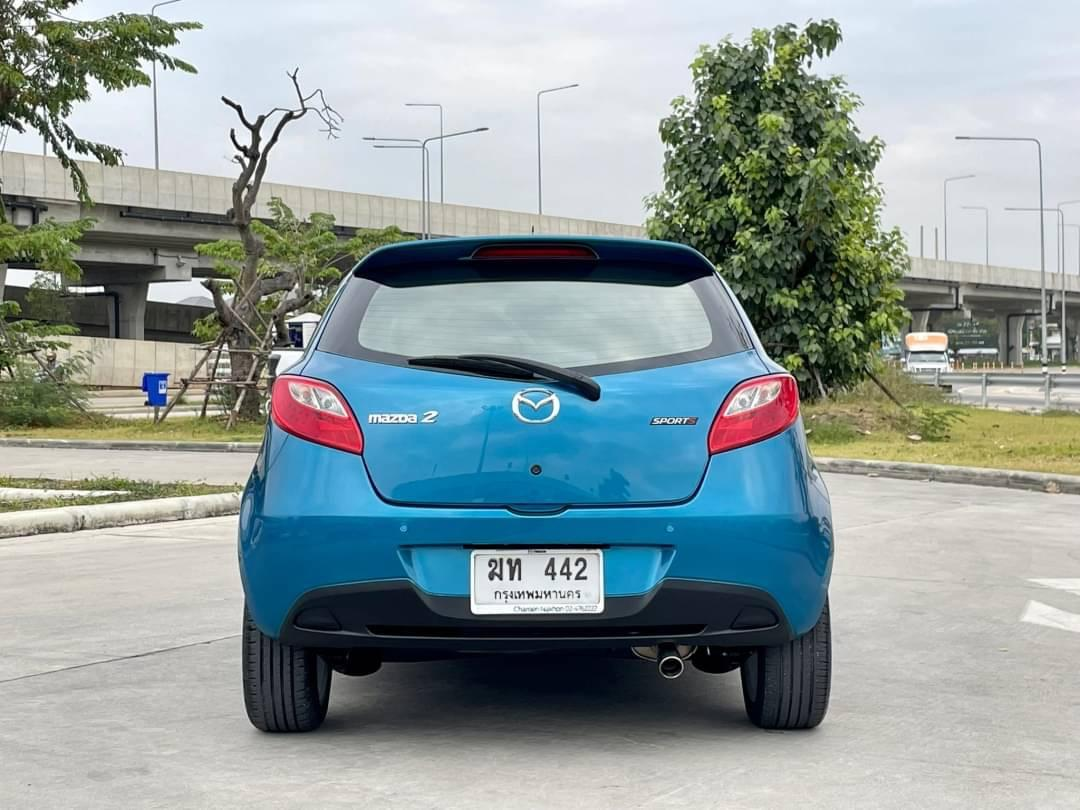license-plate: (465, 538, 614, 621)
